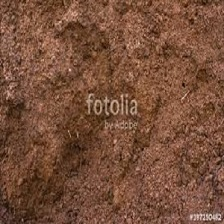sandy_soil: (9, 18, 213, 212)
